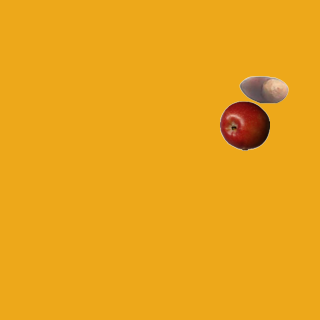Apple Braeburn: (219, 100, 269, 150)
Hazelnut: (238, 64, 288, 114)
